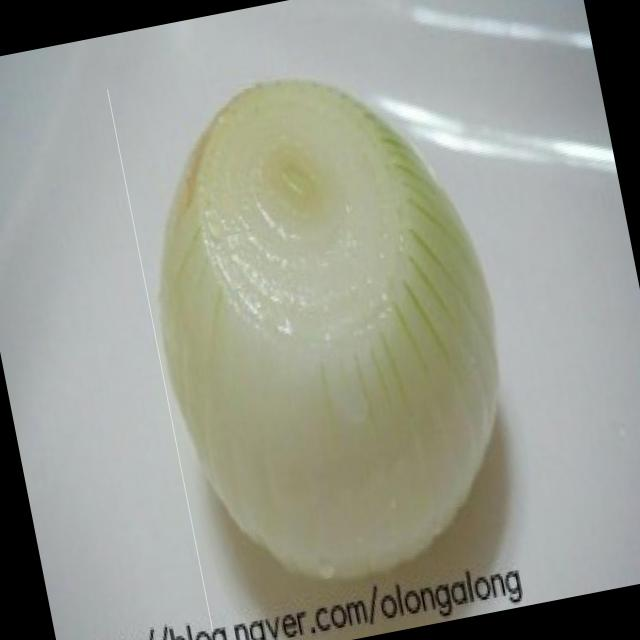Onion: (107, 24, 551, 632)
